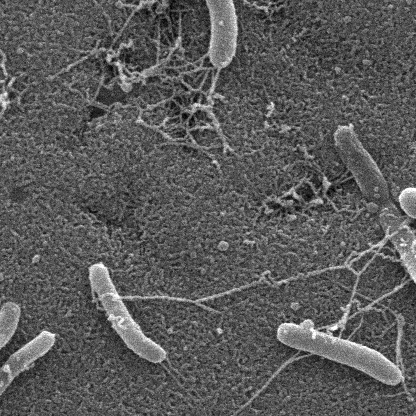cell2cell: (325, 280, 416, 337)
cell2surface: (271, 220, 408, 282), (121, 282, 268, 311), (166, 0, 205, 4)
curved: (401, 189, 416, 246)
regular: (88, 265, 169, 365), (279, 326, 405, 389), (332, 126, 393, 202), (1, 330, 60, 387), (380, 211, 416, 300), (197, 0, 236, 69), (1, 300, 21, 350)
